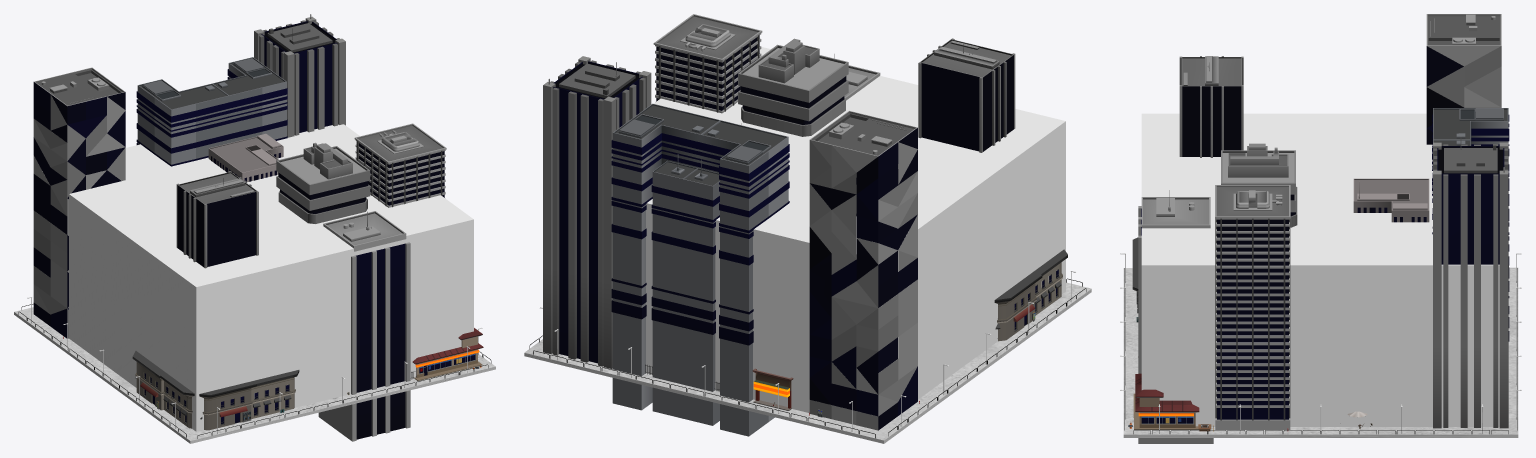
The model's file is BlockSkyscraper.fbx.
The picture shows the model from 3 angles, left to right: view 1: azimuth 30°, elevation 25°; view 2: azimuth 150°, elevation 25°; view 3: azimuth 270°, elevation 25°; orthographic projection. The views are drawn at different scales.
Visible parts, largest first — view 1: sidewalk, base 80, windowRefl 70, base 104, windowRefl 54, sidewalk 1, base 85, base 106, base 82 1, base 100, windowRefl 57, base 82 (+11 smaller); view 2: sidewalk, base 80, base 82 1, base 82, base 85, windowRefl 54, sidewalk 1, base 106, windowRefl 59, windowRefl 57, base 100, windowRefl 56 1 (+8 smaller); view 3: sidewalk, base 85, base 100, windowRefl 66, sidewalk 1, base 80, windowRefl 59, windowRefl 57, base 104, base 106, base 83, base 103 (+4 smaller).
Boxes of the visible parts, left/top/right/bottom form: sidewalk: left=42, top=124, right=473, bottom=431; base 80: left=33, top=67, right=125, bottom=338; windowRefl 70: left=356, top=243, right=405, bottom=439; base 104: left=318, top=211, right=410, bottom=441; windowRefl 54: left=33, top=82, right=125, bottom=338; sidewalk 1: left=14, top=307, right=495, bottom=443; base 85: left=254, top=14, right=345, bottom=137; base 106: left=276, top=142, right=370, bottom=223; base 82 1: left=137, top=79, right=228, bottom=164; base 100: left=354, top=123, right=446, bottom=207; windowRefl 57: left=177, top=185, right=255, bottom=267; base 82: left=212, top=57, right=286, bottom=143; sidewalk: left=646, top=47, right=1065, bottom=412; base 80: left=809, top=111, right=917, bottom=430; base 82 1: left=682, top=120, right=788, bottom=436; base 82: left=612, top=103, right=720, bottom=418; base 85: left=543, top=56, right=651, bottom=368; windowRefl 54: left=809, top=128, right=917, bottom=430; sidewalk 1: left=524, top=282, right=1091, bottom=443; base 106: left=738, top=38, right=848, bottom=136; windowRefl 59: left=553, top=61, right=642, bottom=363; windowRefl 57: left=921, top=55, right=1013, bottom=151; base 100: left=653, top=14, right=762, bottom=113; windowRefl 56 1: left=681, top=142, right=789, bottom=345; sidewalk: left=1141, top=113, right=1499, bottom=426; base 85: left=1433, top=136, right=1508, bottom=428; base 100: left=1215, top=185, right=1290, bottom=429; windowRefl 66: left=1217, top=219, right=1288, bottom=419; sidewalk 1: left=1123, top=267, right=1518, bottom=437; base 80: left=1426, top=14, right=1501, bottom=107; windowRefl 59: left=1437, top=146, right=1504, bottom=264; windowRefl 57: left=1182, top=86, right=1241, bottom=156; base 104: left=1138, top=190, right=1213, bottom=443; base 106: left=1221, top=143, right=1297, bottom=227; base 83: left=1179, top=56, right=1243, bottom=157; base 103: left=1353, top=178, right=1429, bottom=222.
Size of the model in its own units: 11189 by 9896 by 11189.
Materials: 9 (1 with a texture image).
